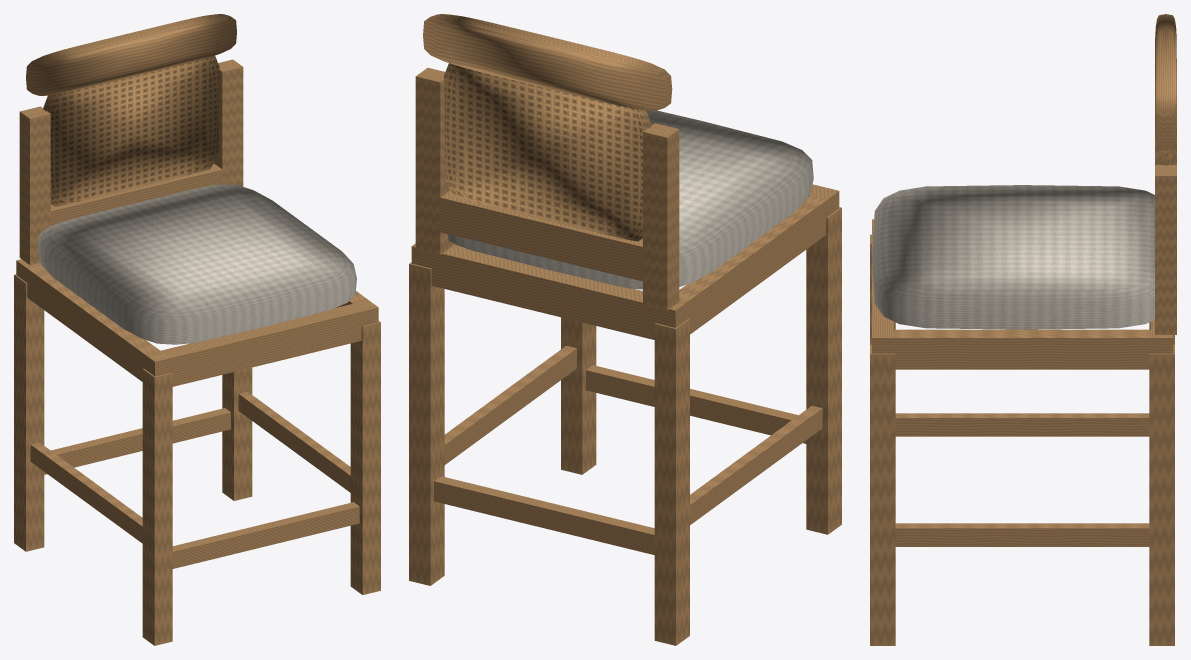
The picture shows the model from 3 angles, left to right: view 1: azimuth 30°, elevation 25°; view 2: azimuth 150°, elevation 25°; view 3: azimuth 270°, elevation 25°; orthographic projection. The views are drawn at different scales.
Parts seen in each view (by area): view 1: 1 seat_cushion, 14 backrest, 18 backrest_frame_top, 6 front_left_leg, 2 seat_apron_front, 7 front_right_leg, 8 back_left_leg, 4 seat_apron_left, 15 backrest_frame_left, 10 front_stretcher, 9 back_right_leg, 11 back_stretcher (+4 smaller); view 2: 14 backrest, 1 seat_cushion, 18 backrest_frame_top, 8 back_left_leg, 9 back_right_leg, 3 seat_apron_back, 6 front_left_leg, 17 backrest_frame_bottom, 4 seat_apron_left, 15 backrest_frame_left, 11 back_stretcher, 16 backrest_frame_right (+4 smaller); view 3: 1 seat_cushion, 5 seat_apron_right, 7 front_right_leg, 9 back_right_leg, 12 left_stretcher, 13 right_stretcher, 16 backrest_frame_right, 18 backrest_frame_top, 2 seat_apron_front, 3 seat_apron_back.
Part boxes in pixels (x1=…): 1 seat_cushion: x1=38, y1=184, x2=356, y2=344; 14 backrest: x1=43, y1=55, x2=219, y2=206; 18 backrest_frame_top: x1=26, y1=14, x2=236, y2=95; 6 front_left_leg: x1=142, y1=368, x2=172, y2=645; 2 seat_apron_front: x1=145, y1=300, x2=378, y2=386; 7 front_right_leg: x1=350, y1=321, x2=380, y2=594; 8 back_left_leg: x1=14, y1=274, x2=44, y2=551; 4 seat_apron_left: x1=19, y1=263, x2=166, y2=381; 15 backrest_frame_left: x1=19, y1=106, x2=50, y2=265; 10 front_stretcher: x1=172, y1=502, x2=359, y2=568; 9 back_right_leg: x1=222, y1=367, x2=252, y2=500; 11 back_stretcher: x1=44, y1=408, x2=230, y2=474; 14 backrest: x1=443, y1=63, x2=651, y2=241; 1 seat_cushion: x1=447, y1=110, x2=813, y2=289; 18 backrest_frame_top: x1=423, y1=14, x2=672, y2=110; 8 back_left_leg: x1=654, y1=318, x2=689, y2=645; 9 back_right_leg: x1=409, y1=262, x2=444, y2=585; 3 seat_apron_back: x1=411, y1=243, x2=686, y2=339; 6 front_left_leg: x1=806, y1=207, x2=841, y2=534; 17 backrest_frame_bottom: x1=431, y1=190, x2=651, y2=282; 4 seat_apron_left: x1=675, y1=194, x2=835, y2=334; 15 backrest_frame_left: x1=643, y1=123, x2=679, y2=310; 11 back_stretcher: x1=434, y1=476, x2=654, y2=554; 16 backrest_frame_right: x1=415, y1=67, x2=452, y2=254; 1 seat_cushion: x1=872, y1=185, x2=1154, y2=329; 5 seat_apron_right: x1=879, y1=329, x2=1165, y2=369; 7 front_right_leg: x1=870, y1=344, x2=895, y2=645; 9 back_right_leg: x1=1149, y1=344, x2=1174, y2=645; 12 left_stretcher: x1=895, y1=413, x2=1149, y2=436; 13 right_stretcher: x1=895, y1=523, x2=1149, y2=546; 16 backrest_frame_right: x1=1155, y1=165, x2=1176, y2=334; 18 backrest_frame_top: x1=1155, y1=14, x2=1176, y2=150; 2 seat_apron_front: x1=872, y1=219, x2=893, y2=353; 3 seat_apron_back: x1=1151, y1=320, x2=1173, y2=353.
Bounding box in the file's own units: 0.49 × 1 × 0.53.
Materials: 3 (3 with a texture image).
